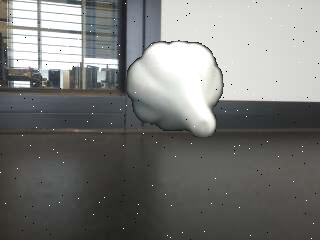Garlic: (124, 40, 224, 137)
